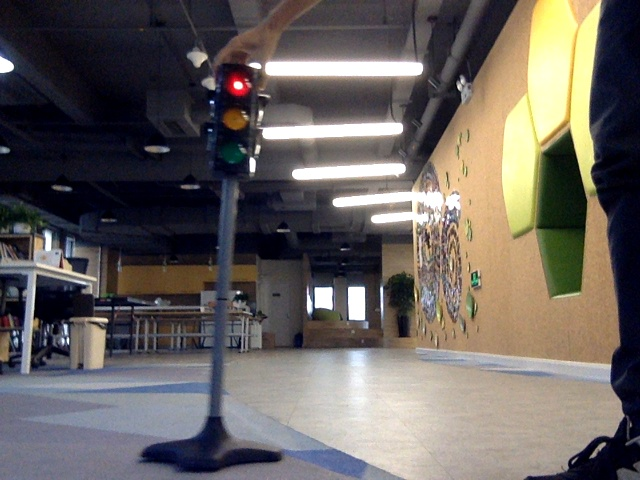red: (219, 69, 251, 167)
